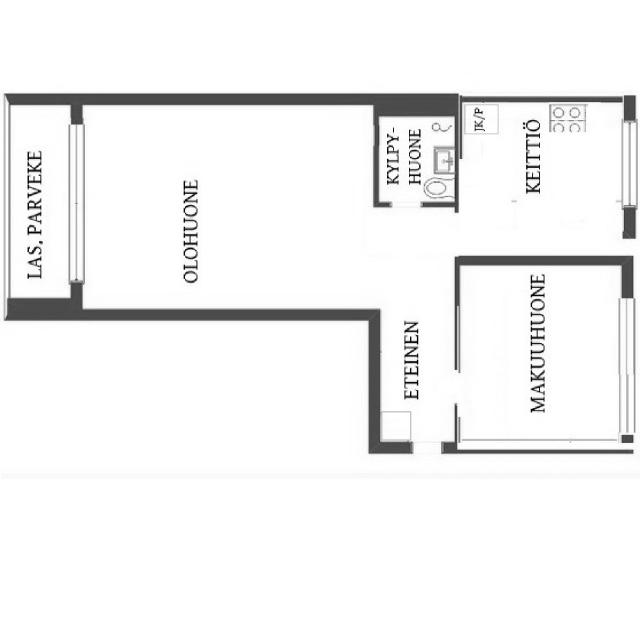door: (88, 104, 351, 314), (454, 259, 629, 452)
window: (58, 117, 97, 286), (609, 294, 640, 435), (616, 117, 640, 213), (383, 198, 427, 215)
zone: (457, 97, 627, 260), (376, 111, 457, 205)
